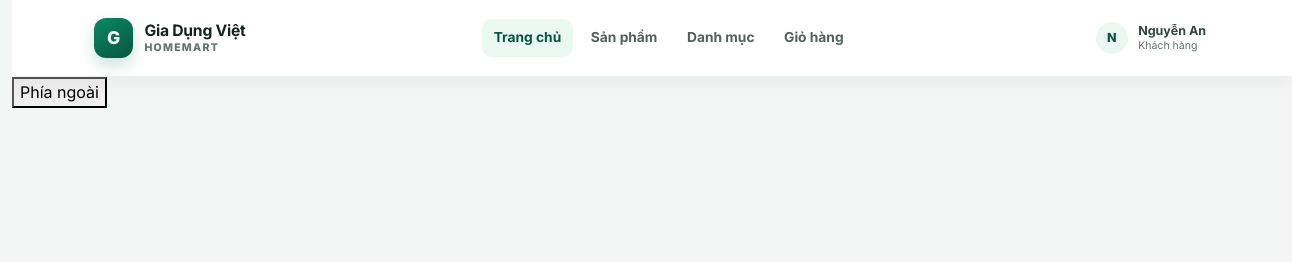
it: prevents duplicate logout and keeps a failed logout retryable
The width and height of the screenshot is (1292, 262).
Step 1. Click the heading named "Tài khoản của bạn" → (1151, 38), box [1092,17,1210,59]
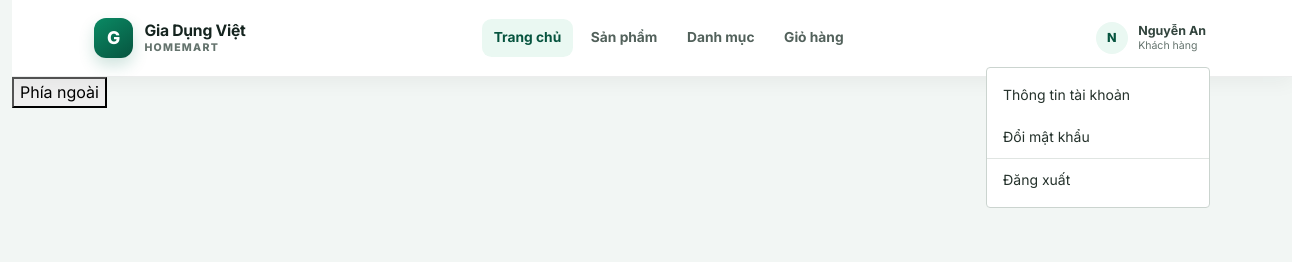
Step 2. Click the button "Đăng xuất" → (1098, 179), box [987,158,1209,201]
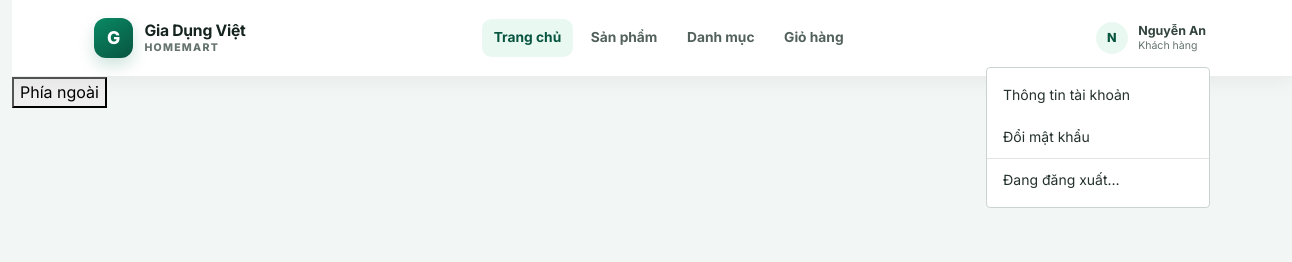
Expected: the button "Đang đăng xuất…" is disabled
Step 3. Click the button "Đang đăng xuất…" → (1098, 179), box [987,158,1209,201]
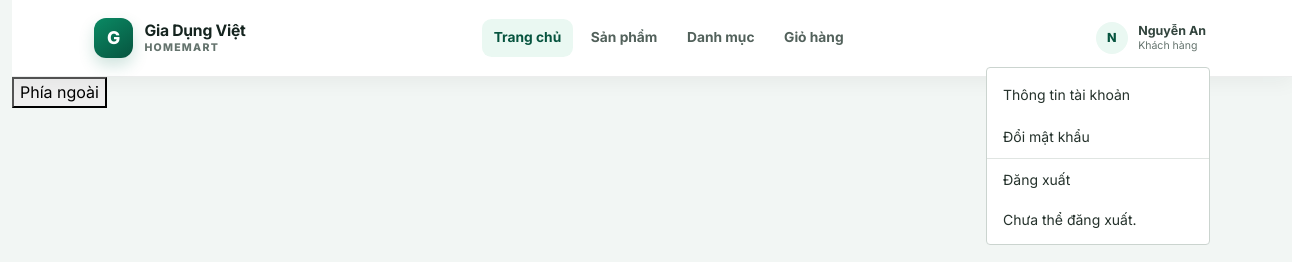
Expected: the message reads "Chưa thể đăng xuất.", [1003,211,1137,228]
Expected: the button "Đăng xuất" is enabled, [987,158,1209,201]
